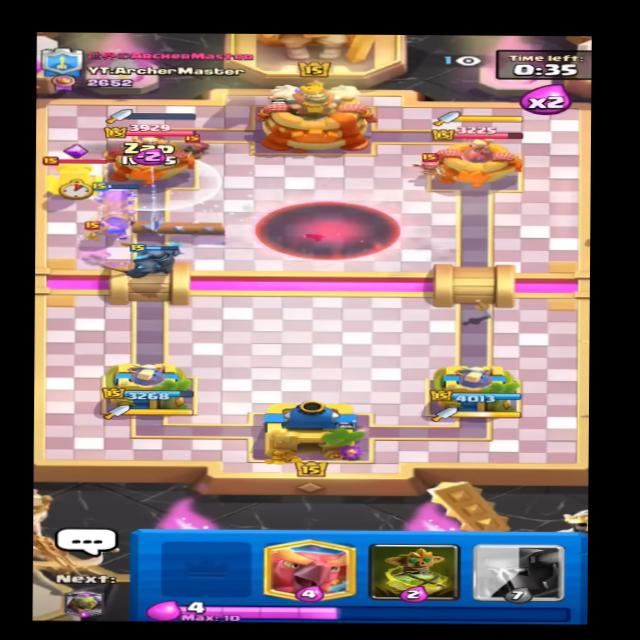archer: (174, 135, 212, 159), (411, 153, 447, 175)
log: (122, 219, 230, 237)
skeleton: (79, 223, 110, 247)
tesla: (37, 153, 114, 204)
